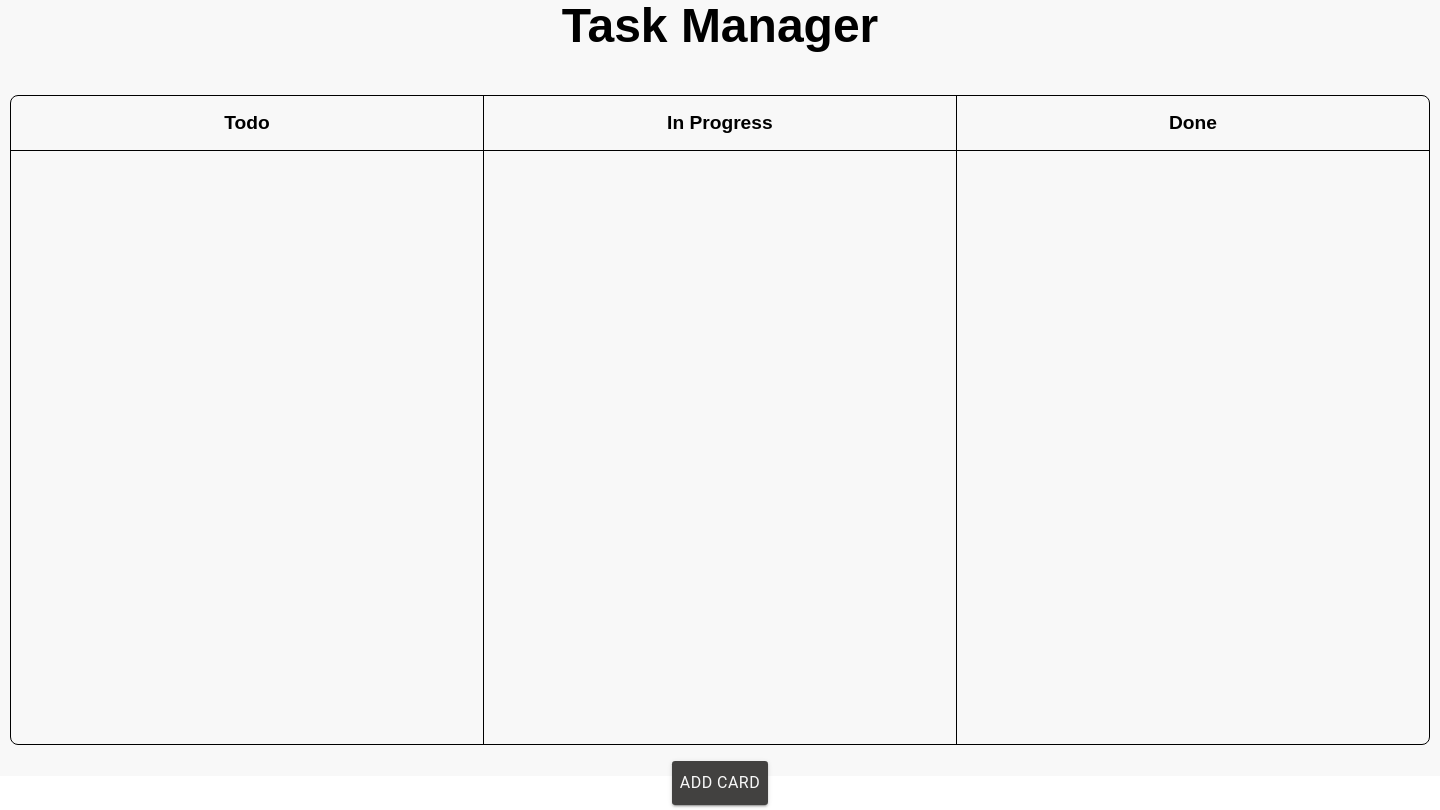
Test: App › adds a new task when the form is submitted
(page scrolled)
Click the button "Add Card" at point(720, 782), box [672,760,768,804]
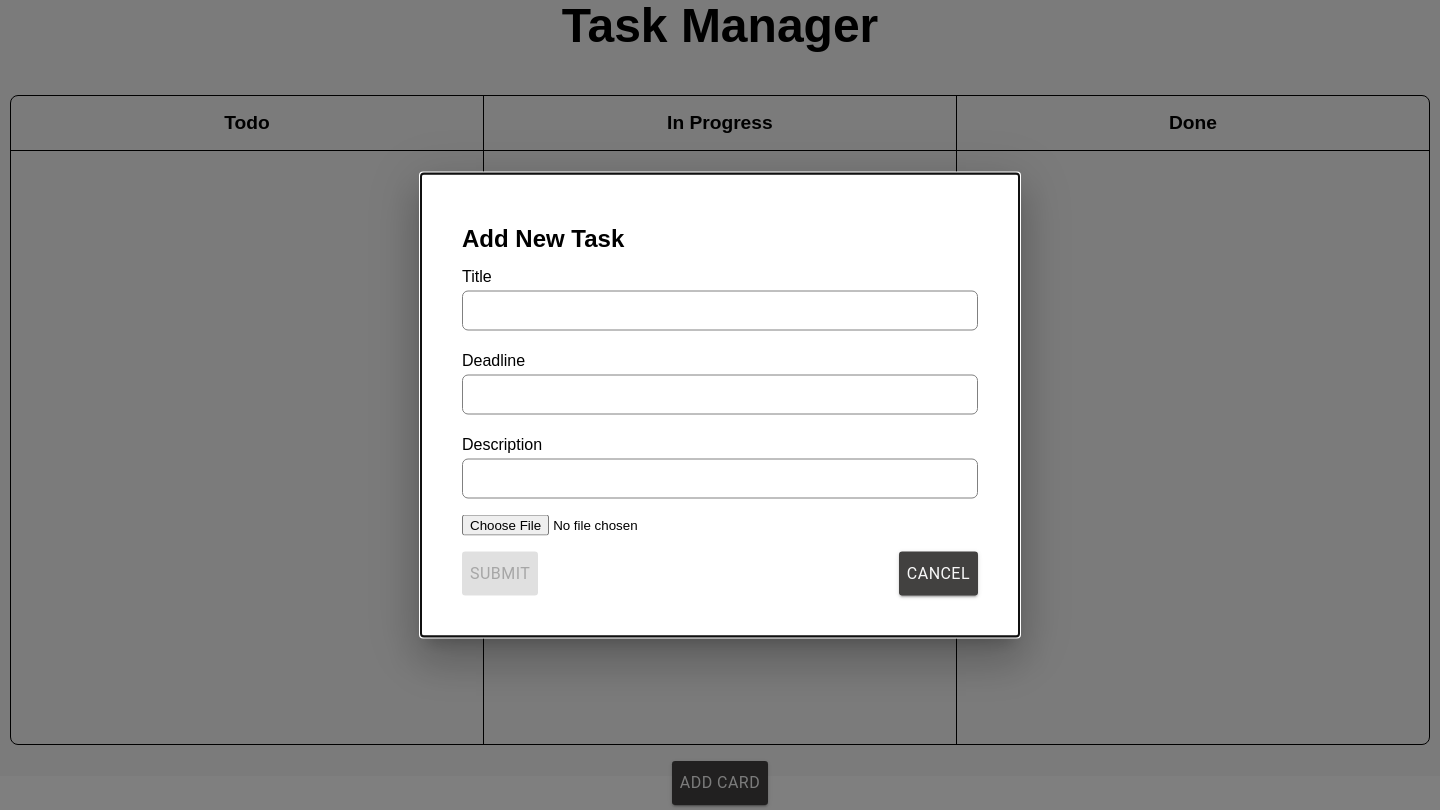
Type "New Task" into the field named "heading" at point(720, 310), box [462,290,978,330]
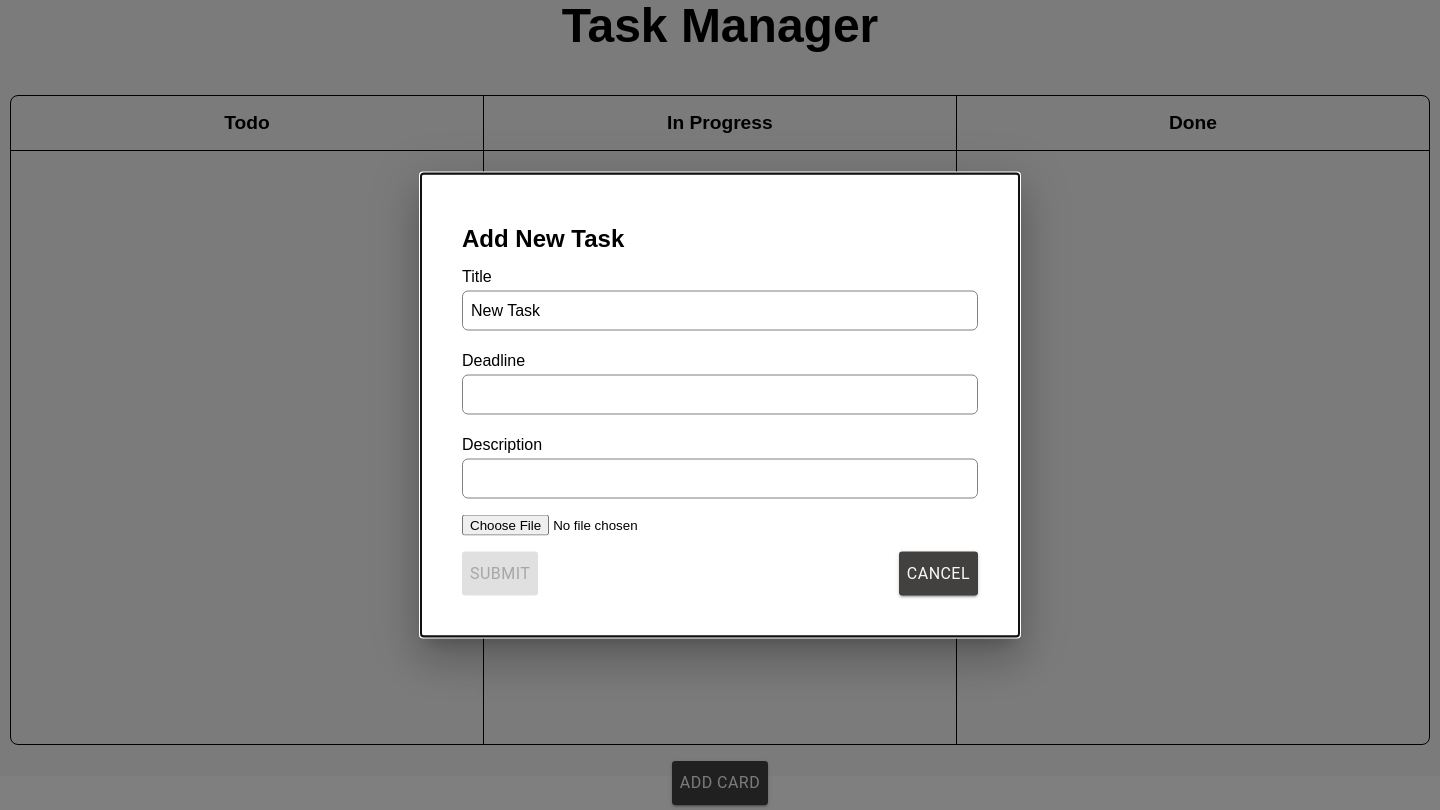
Type "Task Deadline" into the field named "deadline" at point(720, 394), box [462,374,978,414]
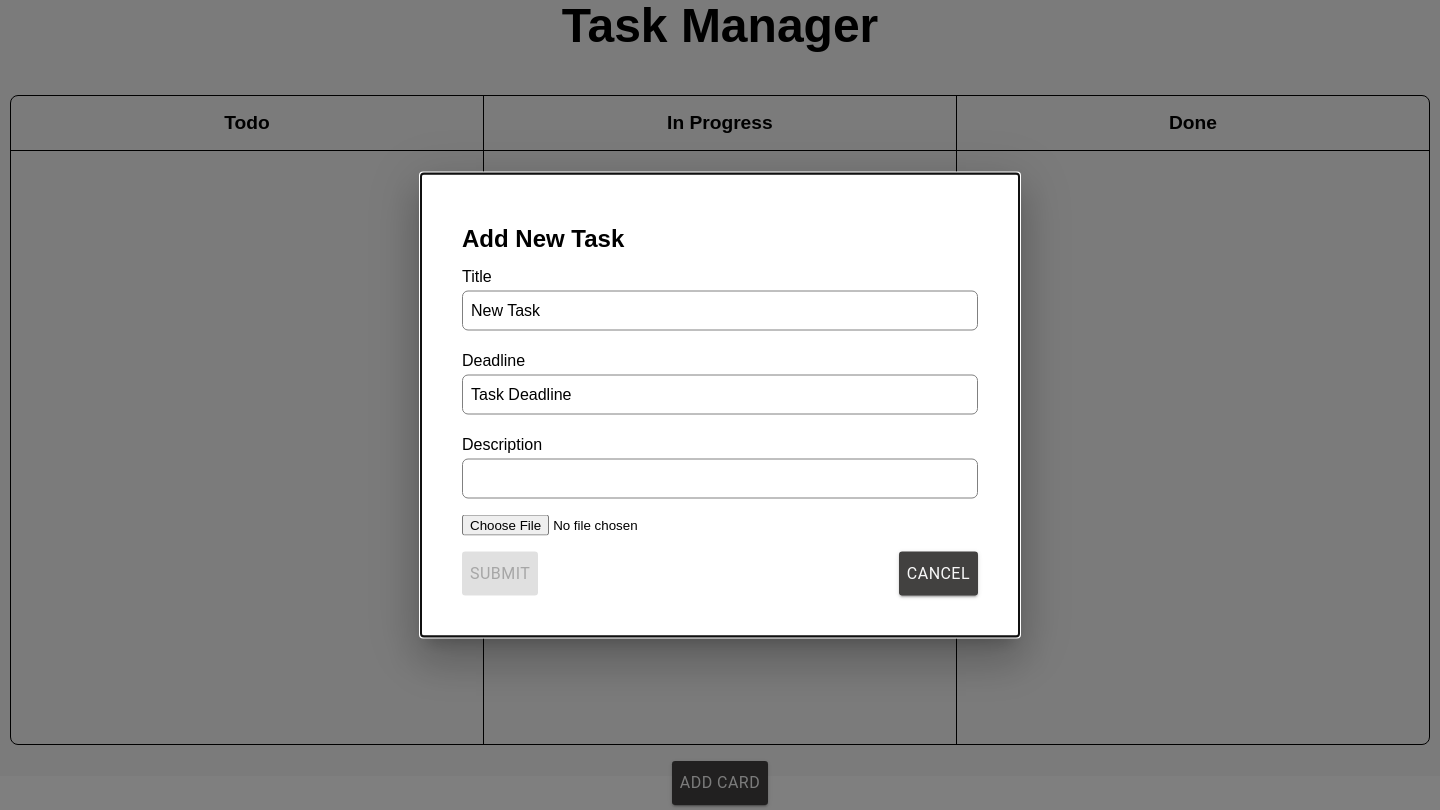
Type "Task description" into the field named "desc" at point(720, 478), box [462,458,978,498]
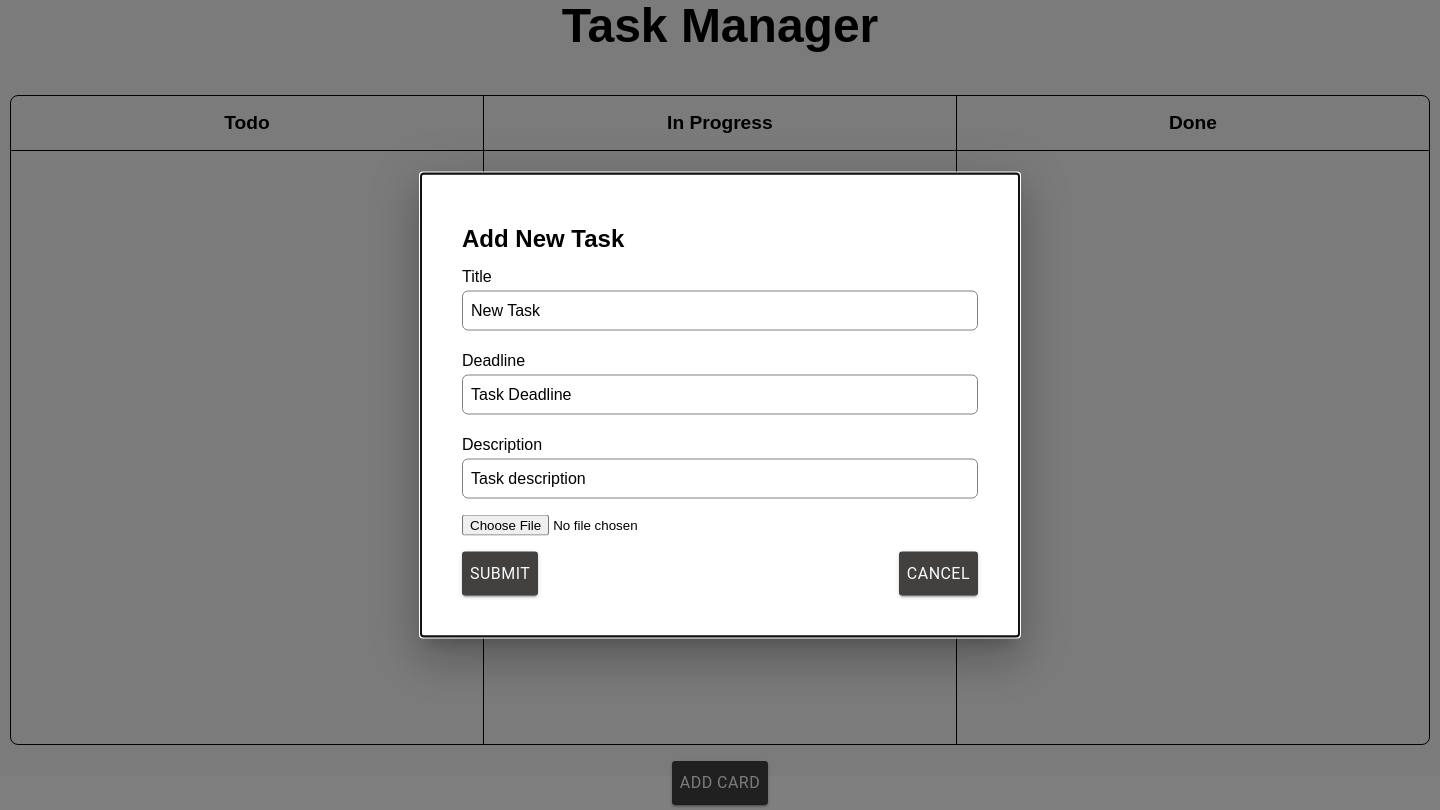
Click the button "Submit" at point(500, 574), box [462,552,538,596]
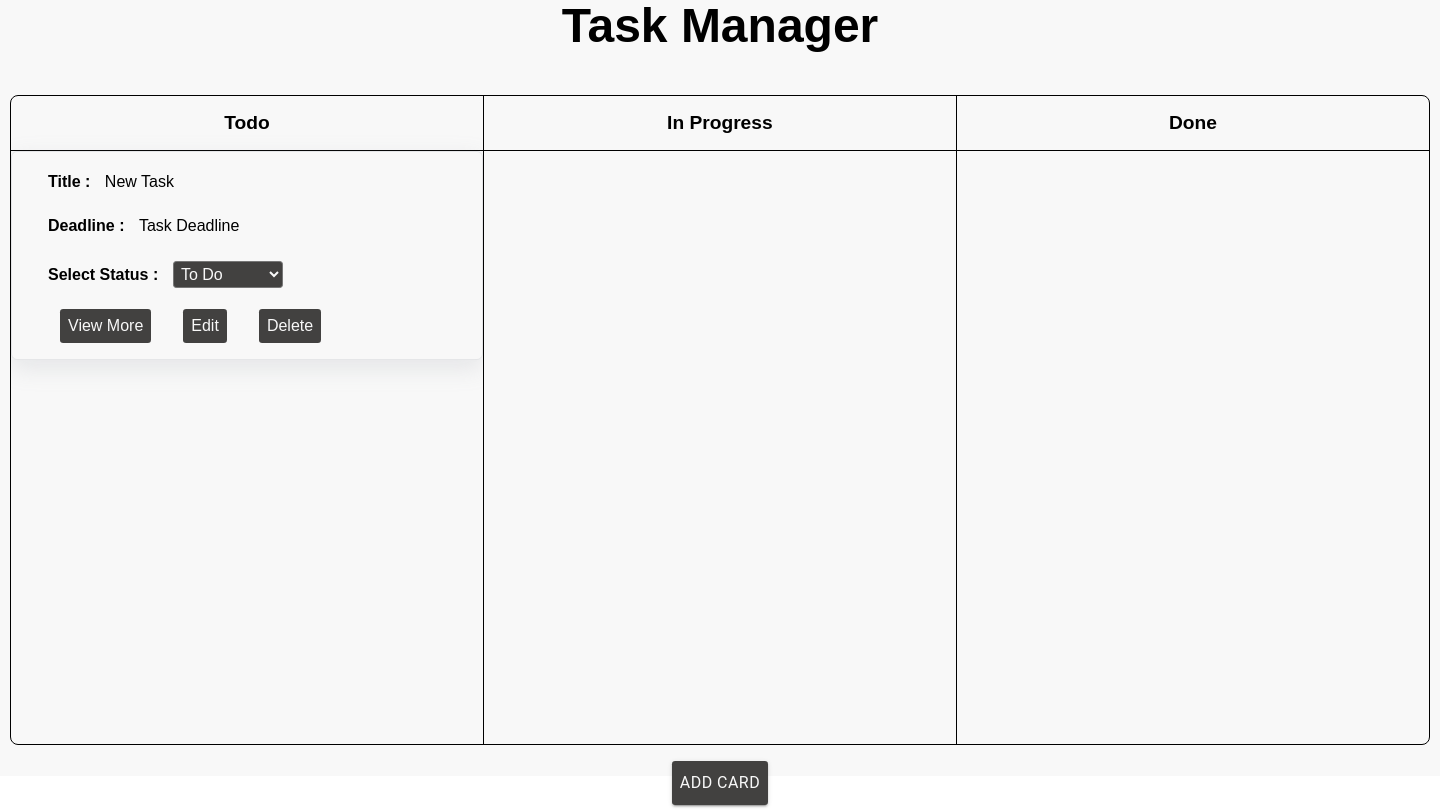
Expected: the text "New Task" is shown, [105,173,174,190]
